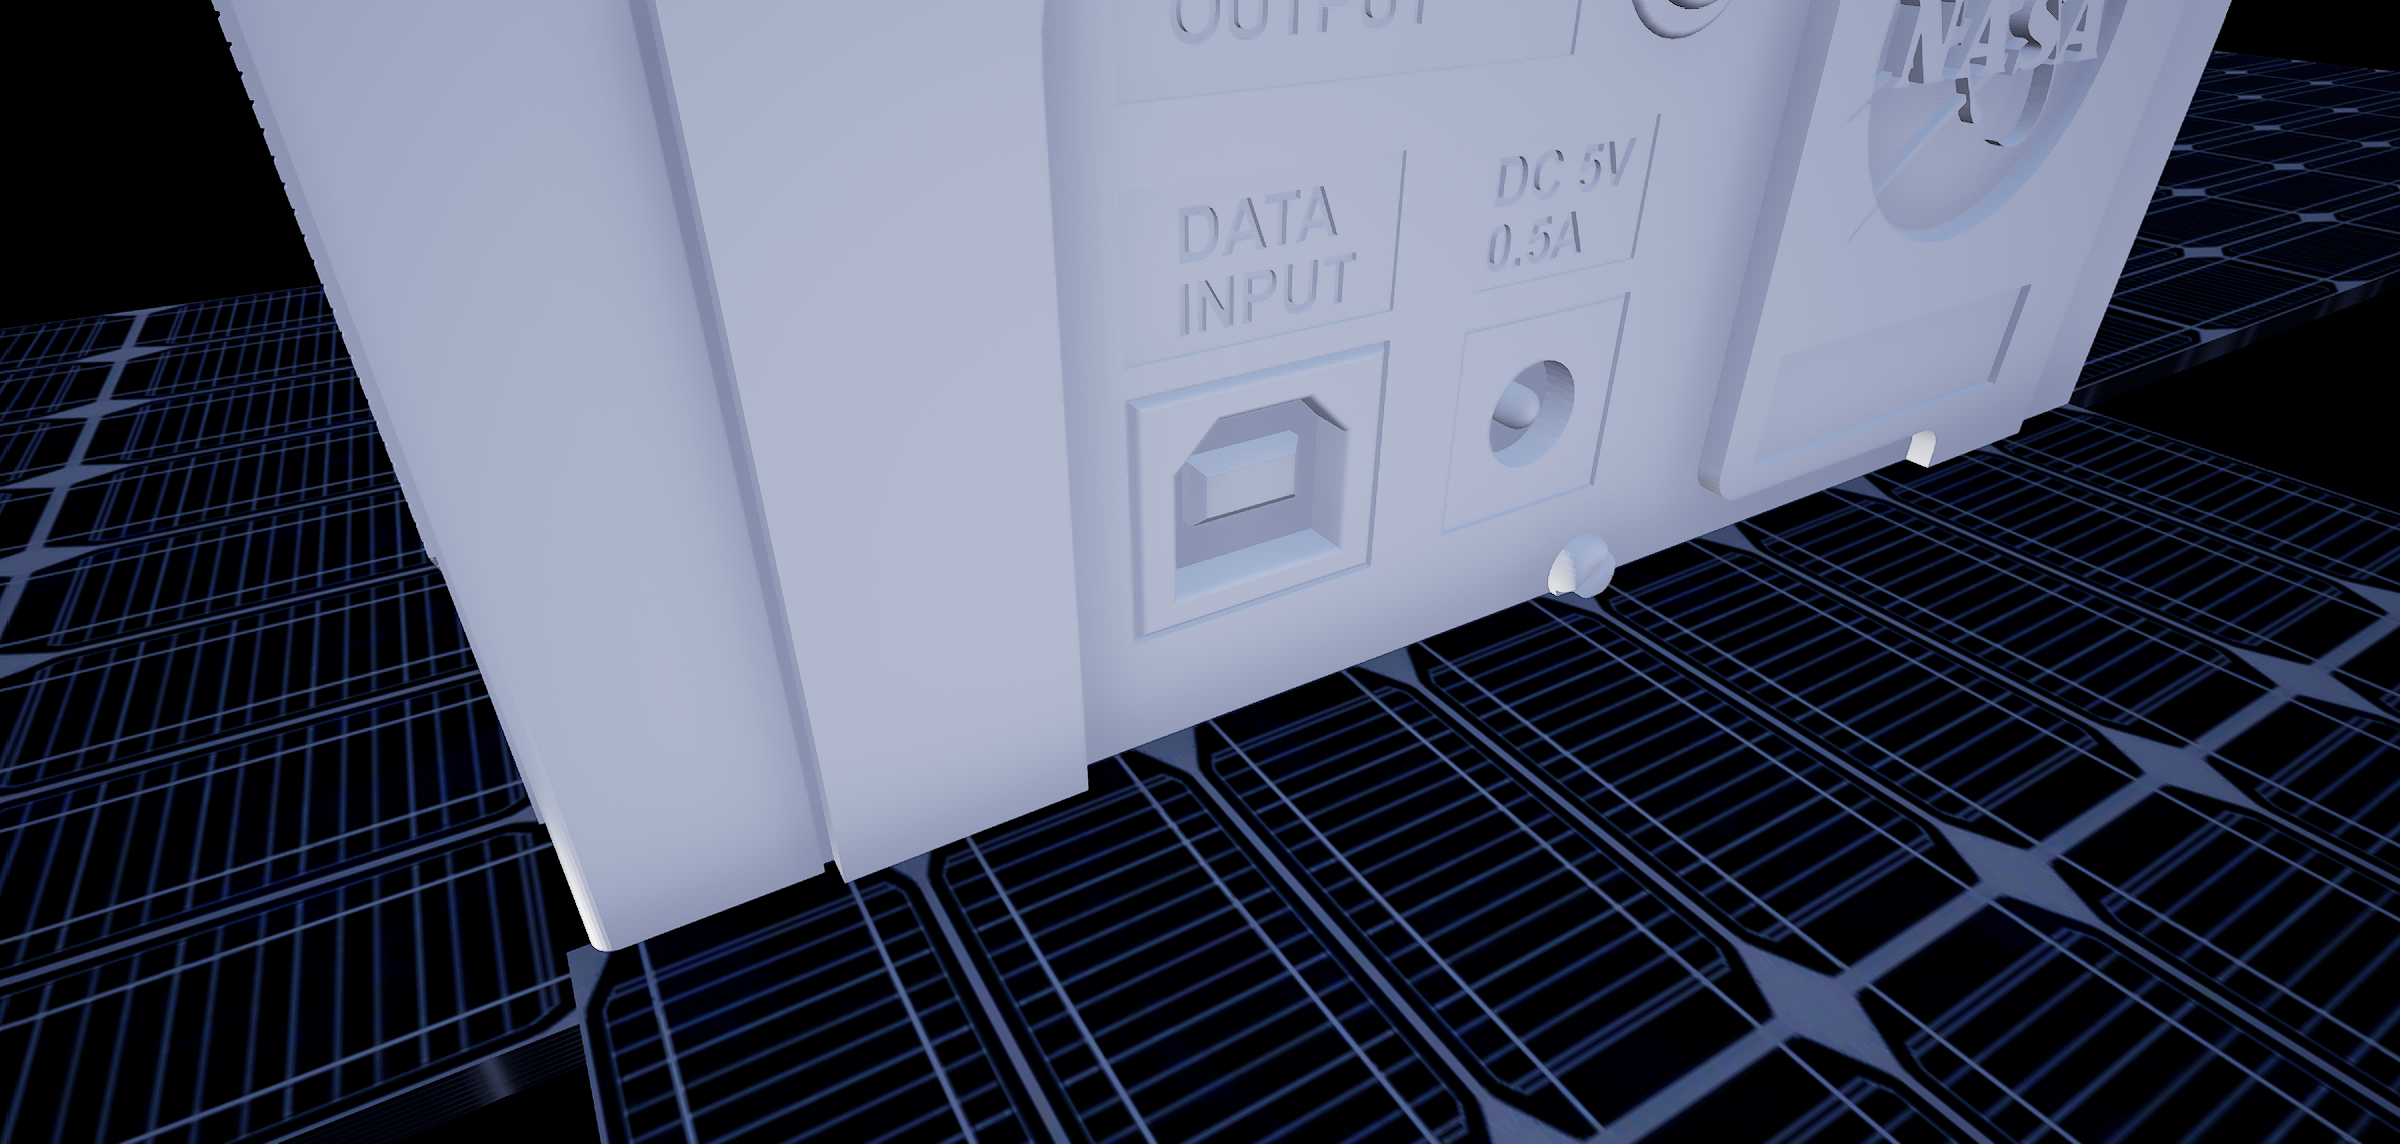dc: (1477, 360, 1584, 478)
usb: (1166, 395, 1352, 593)
